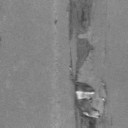slag inclusion: (66, 0, 102, 128), (103, 82, 109, 96), (102, 99, 107, 107), (54, 19, 58, 25)
